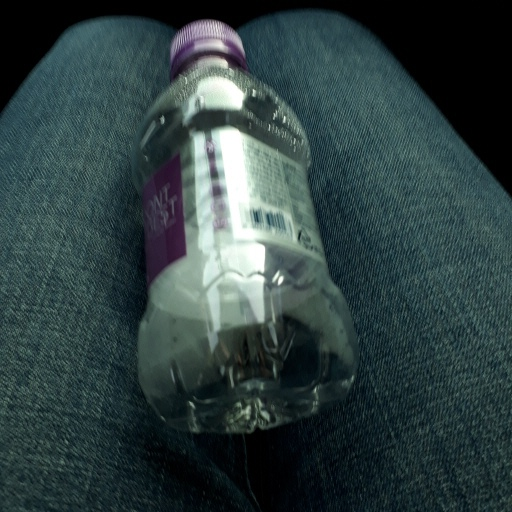Plastic_0: (134, 18, 357, 428)
